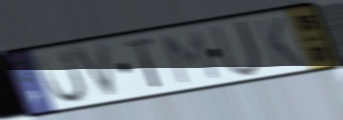K: (253, 16, 305, 70)
M: (159, 28, 222, 86)
T: (123, 35, 165, 90)
U: (208, 17, 263, 79), (33, 48, 88, 106)
V: (66, 38, 122, 103)
